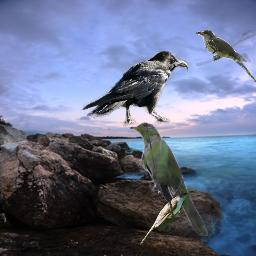Crow: (81, 50, 188, 128)
Cuckoo: (130, 122, 210, 236), (196, 30, 256, 82), (139, 191, 190, 245)
